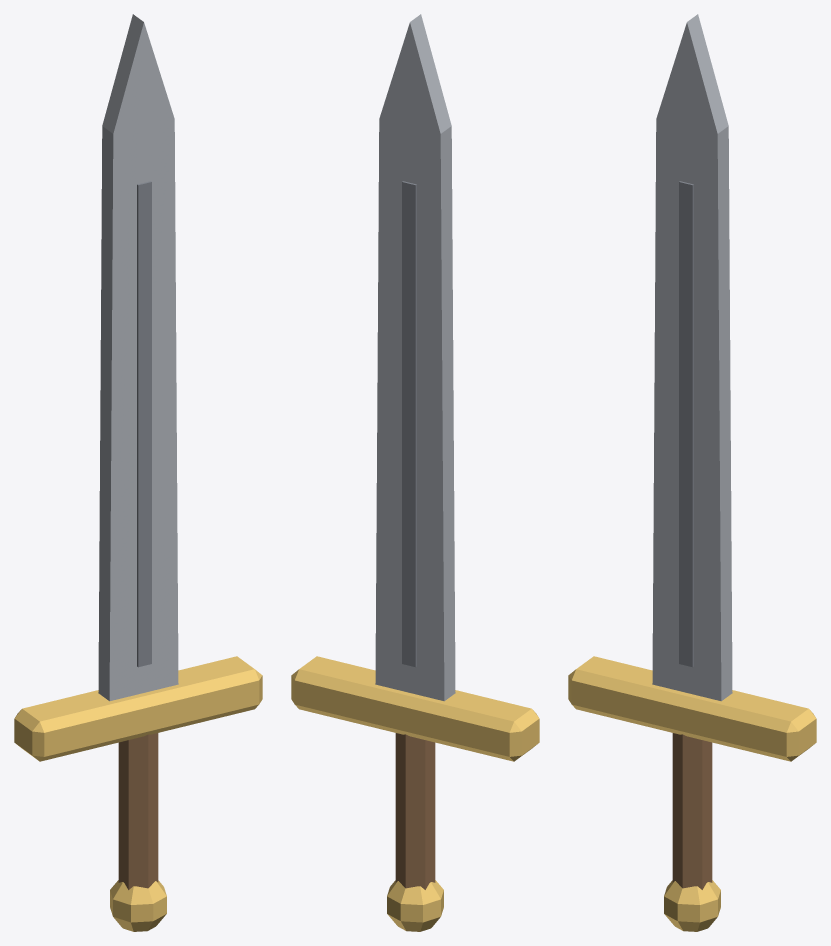
File: Sword.fbx
3 views of the same model, side by side, from view 1: azimuth 30°, elevation 25°; view 2: azimuth 150°, elevation 25°; view 3: azimuth 330°, elevation 25° (orthographic).
Parts seen in each view (by area): view 1: W_Sword; view 2: W_Sword; view 3: W_Sword.
Part boxes in pixels (x1,y1,x2,y2): W_Sword: [14, 14, 262, 931]; W_Sword: [291, 14, 539, 931]; W_Sword: [568, 14, 816, 931].
Bounding box in the file's own units: 0.3 × 1.13 × 0.0666.
